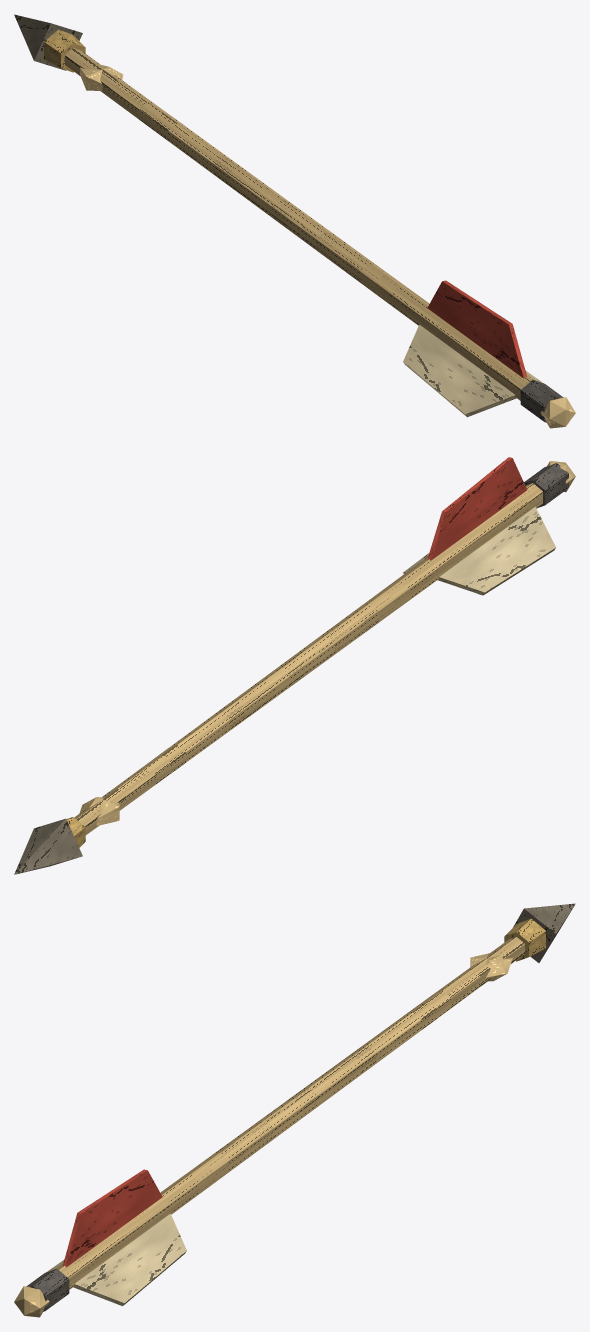
The model's file is proj_arrow.gltf.
The picture shows the model from 3 angles, top to bottom: view 1: azimuth 30°, elevation 25°; view 2: azimuth 150°, elevation 25°; view 3: azimuth 330°, elevation 25°; orthographic projection.
Parts seen in each view (by area): view 1: body, glow; view 2: body, glow; view 3: body, glow.
Boxes of the visible parts, left/top/right/bottom form: body: left=14, top=14, right=562, bottom=422; glow: left=80, top=64, right=575, bottom=428; body: left=14, top=457, right=568, bottom=874; glow: left=79, top=461, right=575, bottom=825; body: left=27, top=903, right=575, bottom=1311; glow: left=14, top=953, right=512, bottom=1317.
Bounding box in the file's own units: 0.0708 × 0.0613 × 0.7442.
2 materials, 2 textured.
